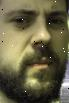without_mask: (1, 1, 69, 103)
